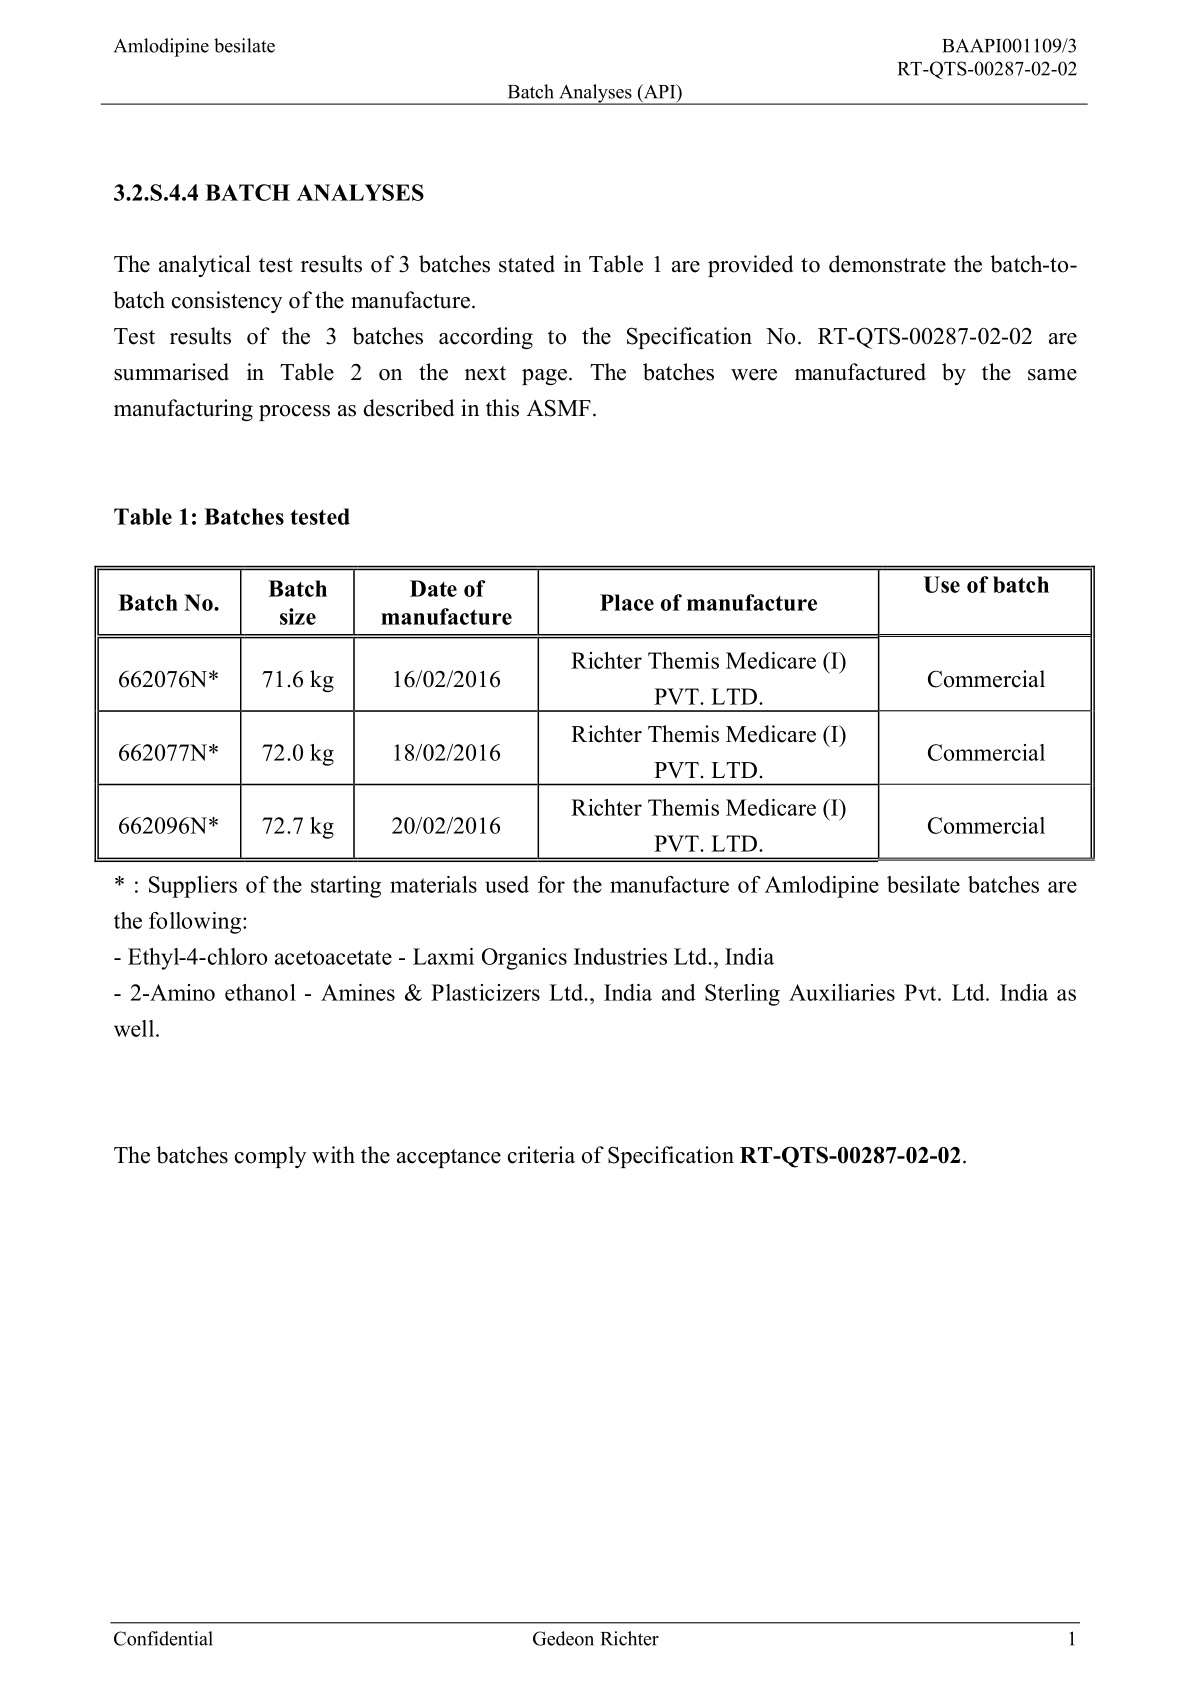full_lined: (94, 564, 1096, 863)
